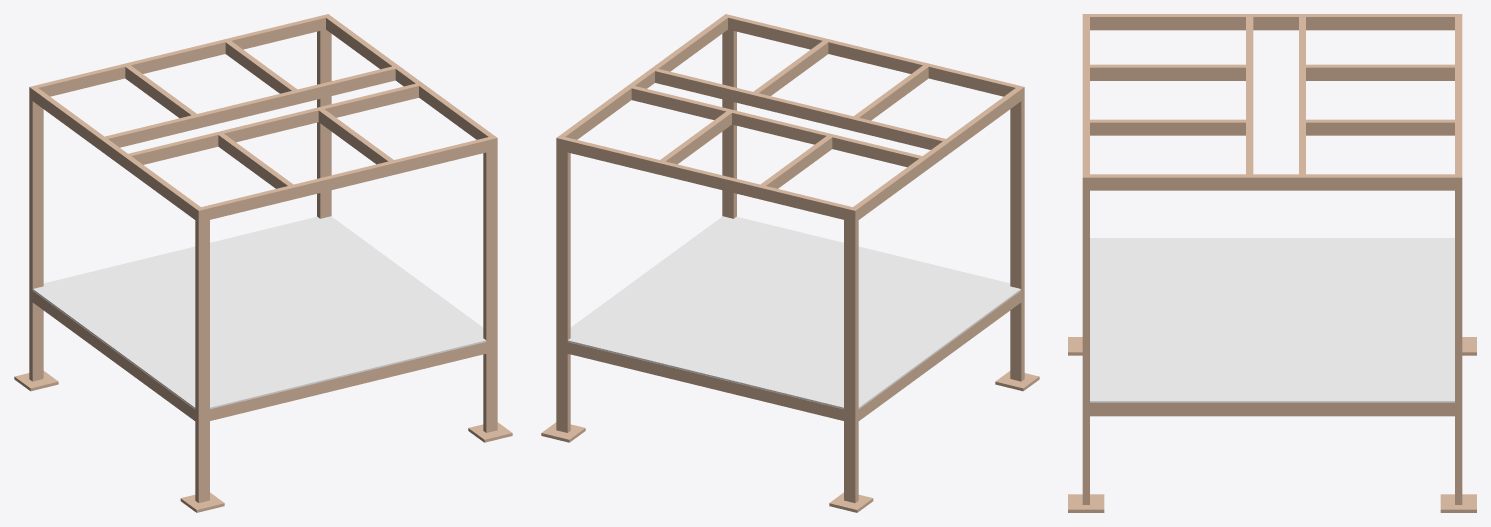
Rendered from AgilusStructure.dae.
The picture shows the model from 3 angles, left to right: view 1: azimuth 30°, elevation 25°; view 2: azimuth 150°, elevation 25°; view 3: azimuth 270°, elevation 25°; orthographic projection. The views are drawn at different scales.
Visible parts, largest first — view 1: Cube, Cube_009, Cube_014, Cube_001, Cube_002, Cube_012, Cube_013, Cube_003, Cube_005, Cube_011, Cube_015, Cube_004 (+5 smaller); view 2: Cube, Cube_012, Cube_003, Cube_013, Cube_004, Cube_009, Cube_014, Cube_001, Cube_006, Cube_011, Cube_015, Cube_002 (+5 smaller); view 3: Cube, Cube_015, Cube_011, Cube_008, Cube_010, Cube_004, Cube_016, Cube_018, Cube_017, Cube_002, Cube_012, Cube_014 (+4 smaller).
Boxes of the visible parts, left/top/right/bottom form: Cube: left=33, top=216, right=486, bottom=408; Cube_009: left=105, top=66, right=397, bottom=147; Cube_014: left=207, top=138, right=488, bottom=220; Cube_001: left=195, top=206, right=209, bottom=502; Cube_002: left=483, top=137, right=497, bottom=432; Cube_012: left=127, top=83, right=420, bottom=164; Cube_013: left=41, top=16, right=322, bottom=96; Cube_003: left=29, top=84, right=43, bottom=381; Cube_005: left=207, top=341, right=488, bottom=421; Cube_011: left=31, top=87, right=201, bottom=220; Cube_015: left=323, top=14, right=496, bottom=139; Cube_004: left=317, top=14, right=331, bottom=218; Cube: left=567, top=216, right=1020, bottom=408; Cube_012: left=653, top=68, right=945, bottom=149; Cube_003: left=844, top=206, right=858, bottom=502; Cube_013: left=565, top=138, right=846, bottom=220; Cube_004: left=556, top=136, right=570, bottom=432; Cube_009: left=630, top=85, right=922, bottom=167; Cube_014: left=731, top=16, right=1012, bottom=96; Cube_001: left=1010, top=84, right=1024, bottom=381; Cube_006: left=565, top=341, right=846, bottom=421; Cube_011: left=852, top=88, right=1022, bottom=220; Cube_015: left=559, top=14, right=729, bottom=139; Cube_002: left=722, top=14, right=736, bottom=218; Cube: left=1090, top=238, right=1454, bottom=402; Cube_015: left=1083, top=174, right=1461, bottom=190; Cube_011: left=1087, top=14, right=1457, bottom=30; Cube_008: left=1083, top=403, right=1460, bottom=416; Cube_010: left=1086, top=64, right=1245, bottom=80; Cube_004: left=1455, top=172, right=1462, bottom=504; Cube_016: left=1087, top=119, right=1245, bottom=135; Cube_018: left=1299, top=64, right=1458, bottom=80; Cube_017: left=1299, top=119, right=1454, bottom=135; Cube_002: left=1082, top=172, right=1089, bottom=504; Cube_012: left=1246, top=17, right=1253, bottom=175; Cube_014: left=1082, top=20, right=1089, bottom=172.
Size of the model in its own units: 2.25 by 2.25 by 2.01.
